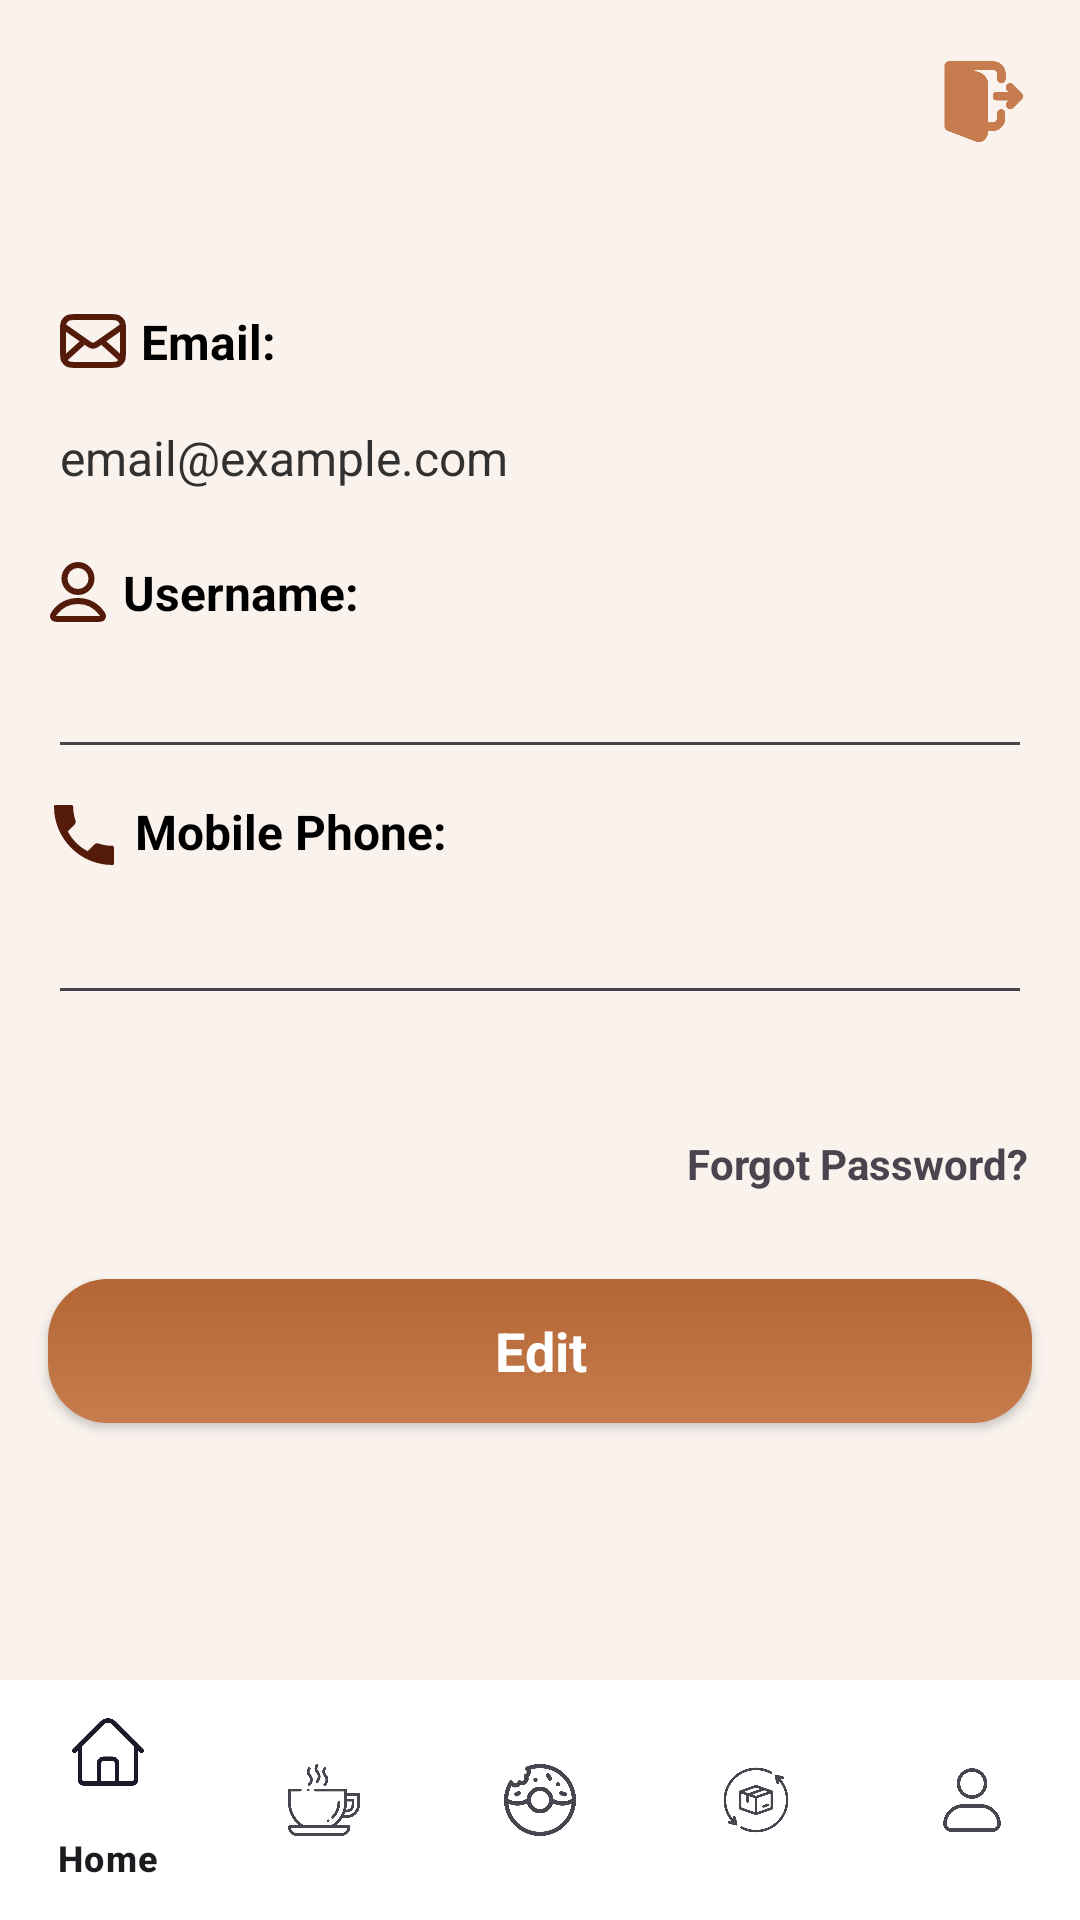

Icon click points for this 1080*1920 phone screenshot, format (x,y):
exit: (983,101)
